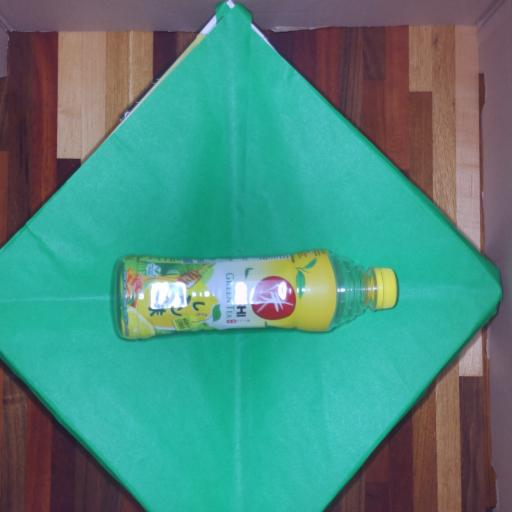bottle: (98, 225, 418, 358)
